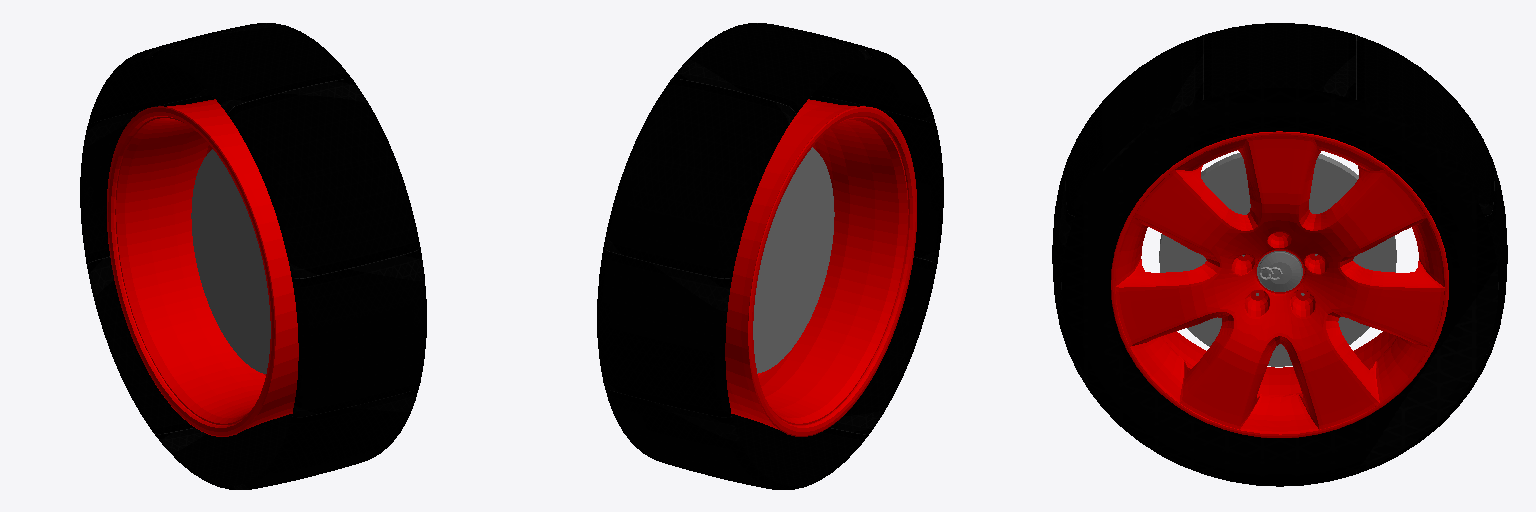
3 views of the same model, side by side, from view 1: azimuth 30°, elevation 25°; view 2: azimuth 150°, elevation 25°; view 3: azimuth 270°, elevation 25° (orthographic).
Visible parts, largest first — view 1: Audi_A6.003, Audi_A6.006; view 2: Audi_A6.003, Audi_A6.006; view 3: Audi_A6.003, Audi_A6.006.
Boxes of the visible parts, <box> form: Audi_A6.003: <box>80,23,426,489</box>; Audi_A6.006: <box>191,149,270,373</box>; Audi_A6.003: <box>597,23,943,489</box>; Audi_A6.006: <box>753,147,834,373</box>; Audi_A6.003: <box>1052,23,1507,486</box>; Audi_A6.006: <box>1159,153,1396,366</box>.
Size of the model in its own units: 3.77 by 11.17 by 11.17.
Materials: 6 (2 with a texture image).